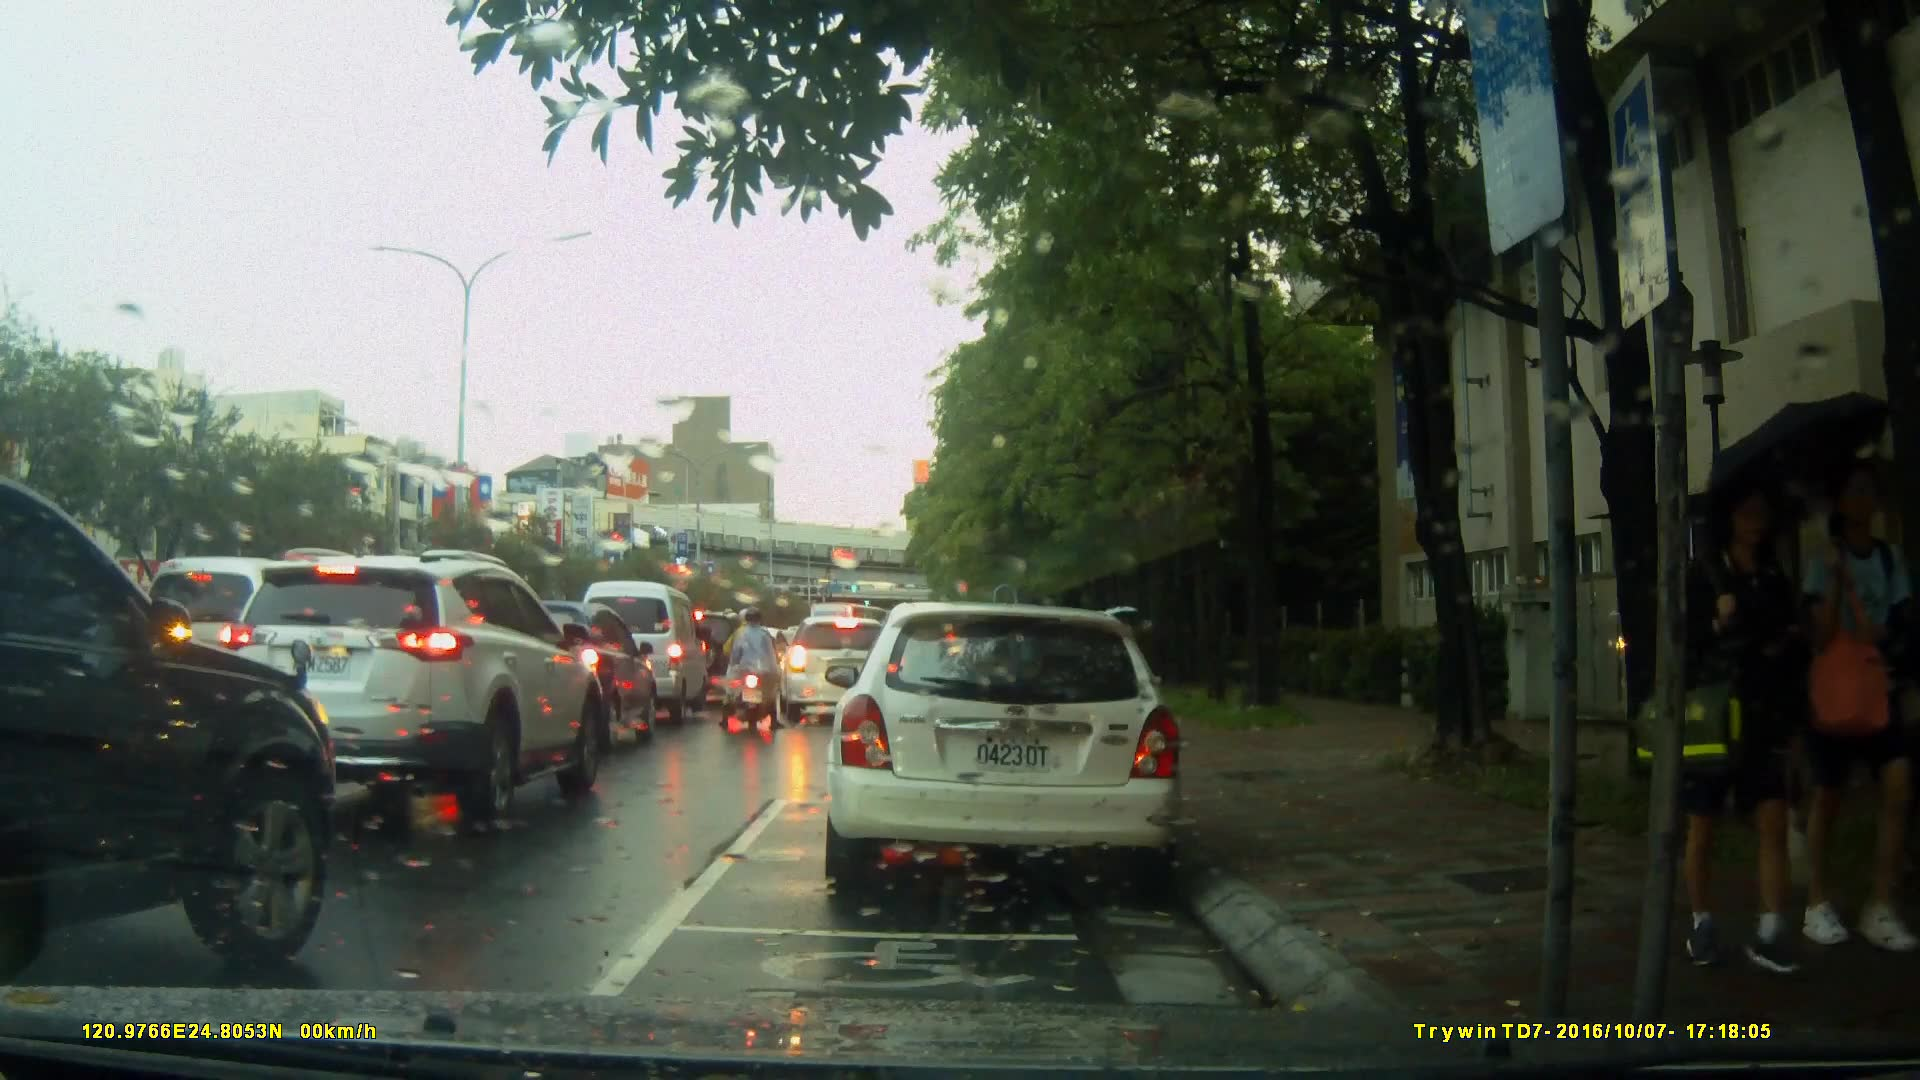pedestrian: (1649, 452, 1829, 996), (1790, 452, 1920, 967)
rider: (719, 606, 782, 731)
vehicle: (1, 471, 334, 987), (815, 593, 1204, 909), (198, 546, 614, 826), (127, 553, 329, 732), (462, 599, 656, 758), (572, 580, 711, 727), (779, 615, 910, 723), (656, 607, 765, 710)
